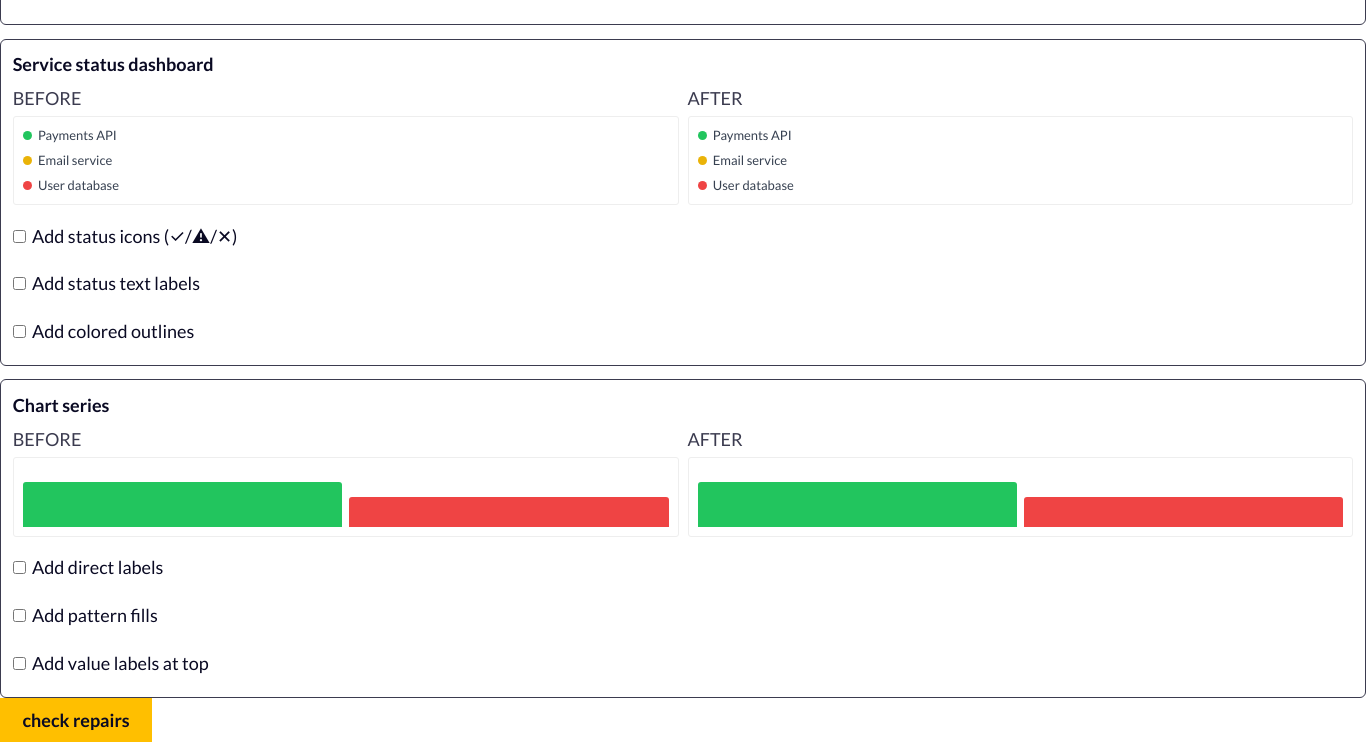
Scenario: PatternRepairTool › explains why value labels do not repair chart series
This screenshot has width=1366, height=742.
(page scrolled)
Click the checkbox labelled "Add value labels at top": click(19, 663) [13,657,26,670]
(page scrolled)
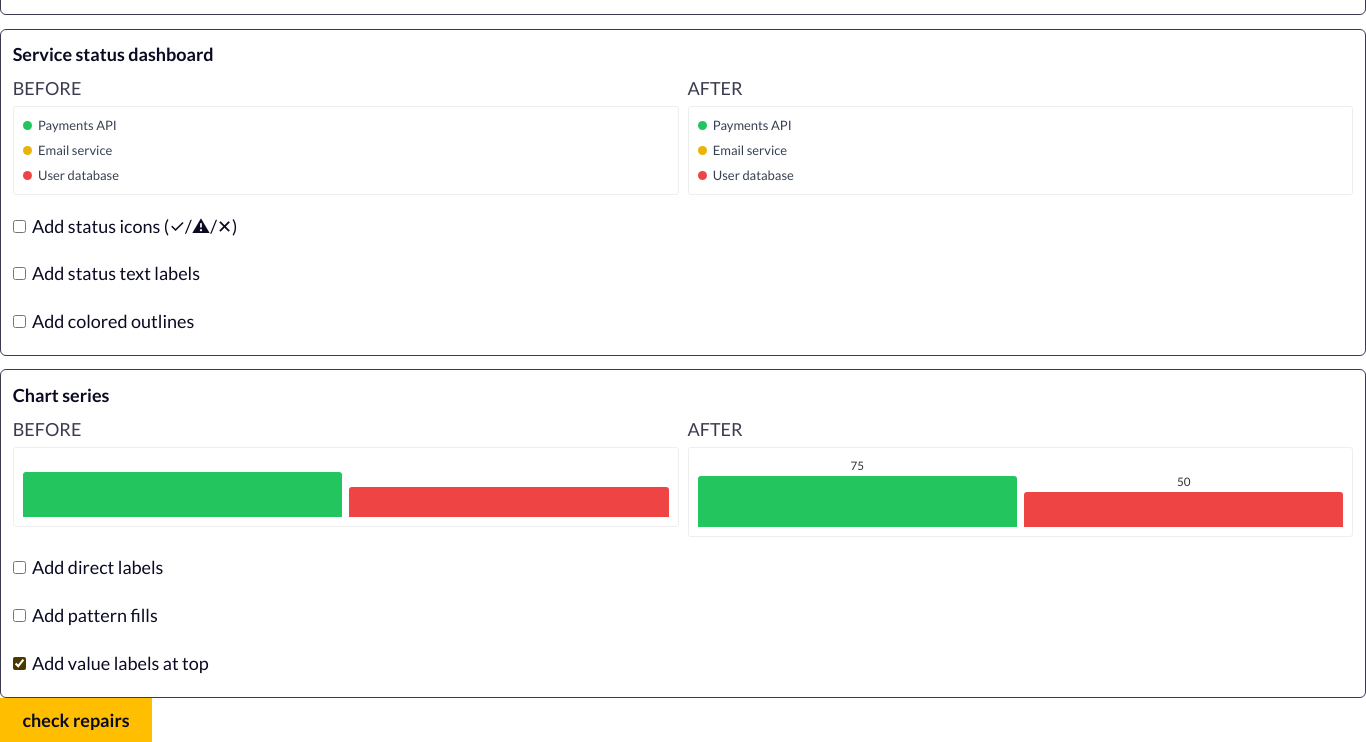
Click the button "check repairs": click(76, 720) [0,698,152,741]
(page scrolled)
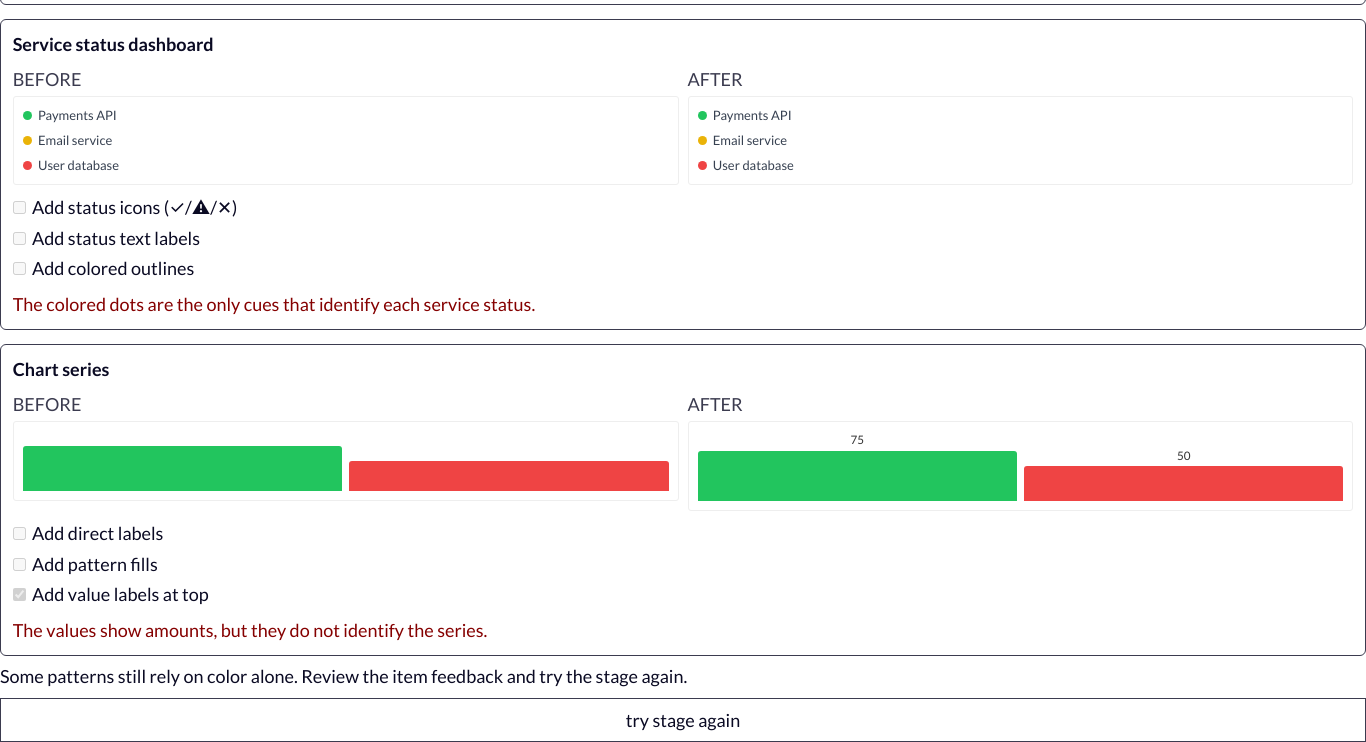
expect the text "The values show amounts, but they do not identify the series." is shown: met, box [13,618,487,640]
